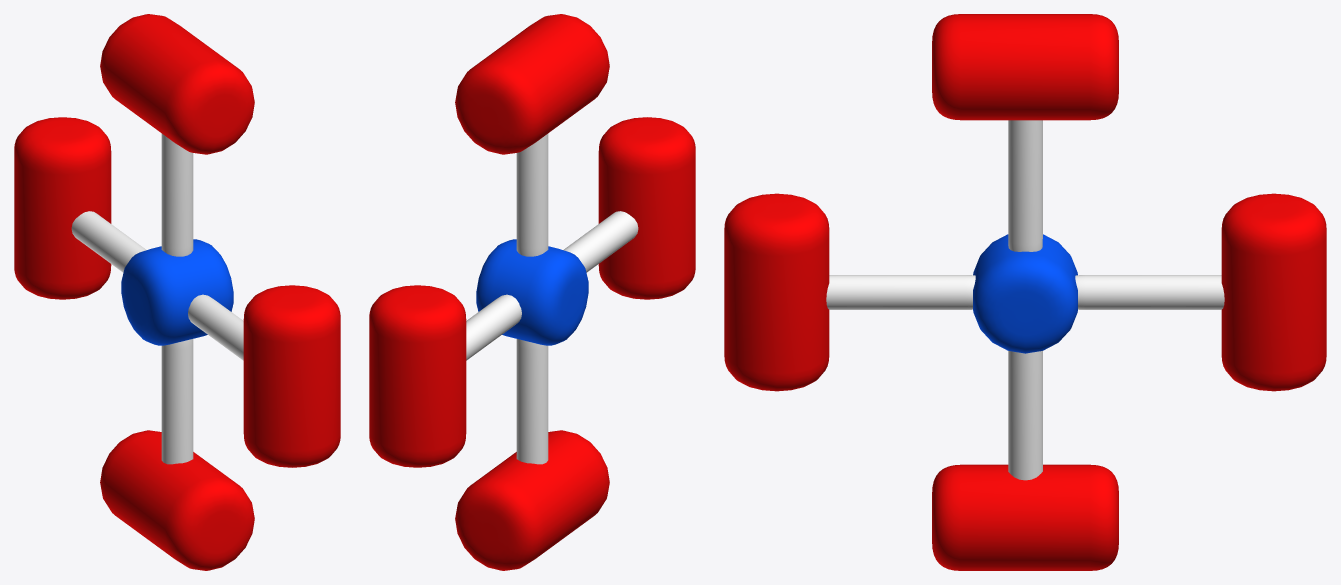
File: Cekic.FBX
The picture shows the model from 3 angles, left to right: view 1: azimuth 30°, elevation 25°; view 2: azimuth 150°, elevation 25°; view 3: azimuth 270°, elevation 25°; orthographic projection. The views are drawn at different scales.
Parts seen in each view (by area): view 1: Object018, Object016, Object019, Object017, Cylinder002; view 2: Object017, Object016, Object019, Object018, Cylinder002; view 3: Object017, Object018, Object016, Object019, Cylinder002.
Part boxes in pixels (x1,y1,x2,y2): Object018: (188,285,340,467); Object016: (100,14,254,256); Object019: (100,339,254,570); Object017: (14,117,146,299); Cylinder002: (121,239,233,345); Object017: (369,285,521,467); Object016: (455,14,609,256); Object019: (455,339,609,570); Object018: (563,117,695,299); Cylinder002: (476,239,588,345); Object017: (1075,193,1326,391); Object018: (724,193,975,391); Object016: (932,14,1118,251); Object019: (932,351,1118,570); Cylinder002: (973,234,1077,353).
Size of the model in its own units: 90 by 508 by 508.
